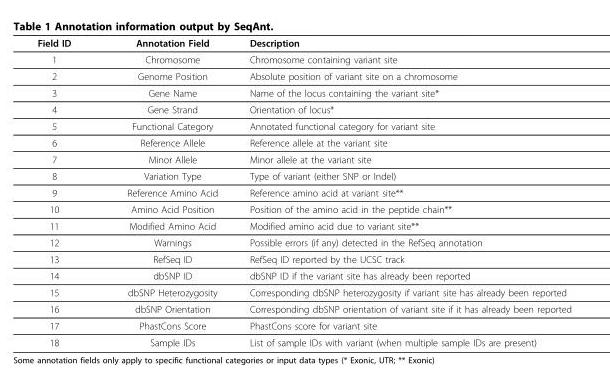table: (36, 36, 570, 347)
table column: (233, 36, 570, 347), (98, 36, 233, 347), (36, 36, 98, 347)
table column header: (36, 36, 570, 50)
table row: (36, 50, 570, 67), (36, 67, 570, 84), (36, 100, 570, 117), (36, 117, 570, 134), (36, 150, 570, 167), (36, 167, 570, 184), (36, 200, 570, 217), (36, 233, 570, 250), (36, 250, 570, 267), (36, 283, 570, 300), (36, 300, 570, 317), (36, 84, 570, 100), (36, 134, 570, 150), (36, 184, 570, 200), (36, 217, 570, 233), (36, 267, 570, 283), (36, 317, 570, 333), (36, 36, 570, 50), (36, 333, 570, 347)
